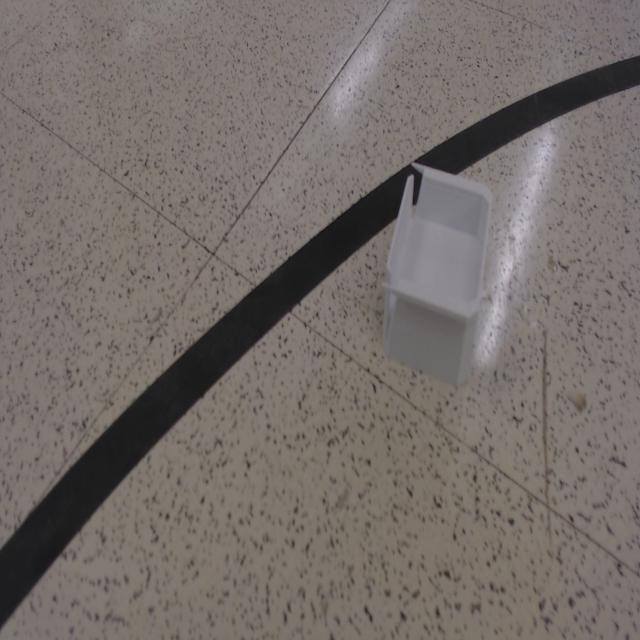wbox: (380, 159, 493, 388)
